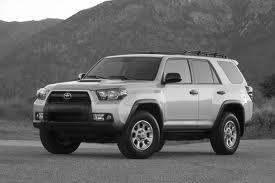car: (30, 51, 257, 160)
